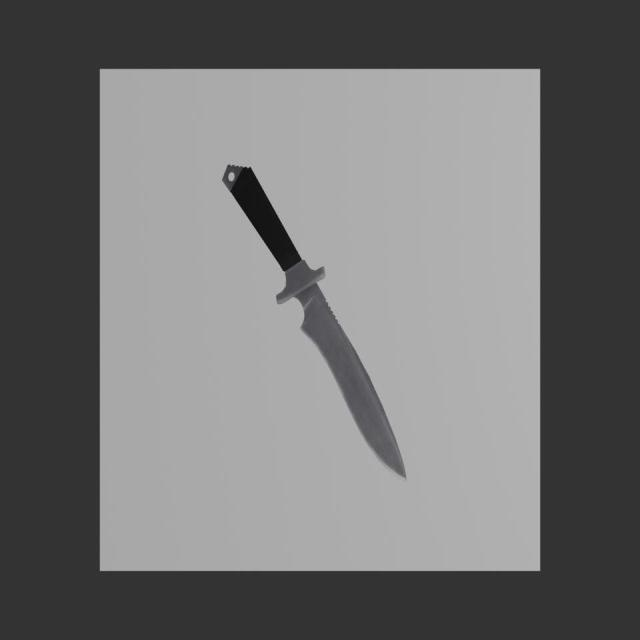knife: (222, 165, 302, 272)
